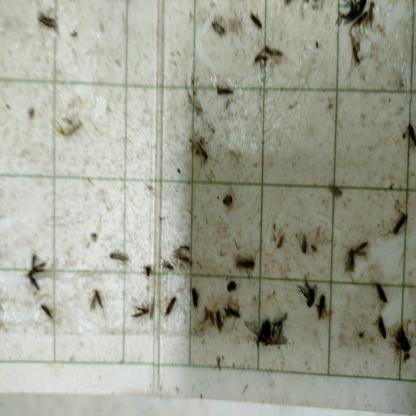prays_oleae: (18, 248, 52, 286), (229, 249, 259, 282), (36, 7, 65, 37), (173, 239, 195, 276), (391, 206, 411, 246), (85, 285, 112, 314), (298, 269, 315, 312), (375, 276, 394, 308), (395, 325, 412, 359), (342, 240, 357, 278), (131, 296, 149, 325), (106, 249, 130, 270), (216, 80, 235, 106), (295, 228, 310, 258), (318, 293, 330, 327), (249, 9, 263, 35), (40, 300, 54, 324), (225, 300, 240, 322), (377, 313, 388, 343), (188, 284, 200, 310), (163, 296, 177, 318)
